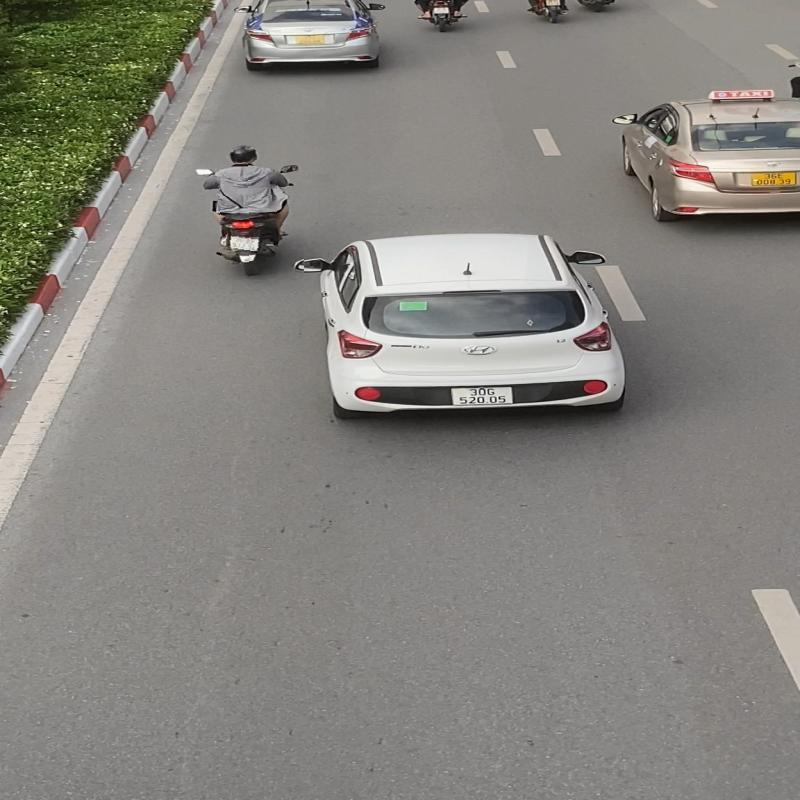helmet: (228, 144, 264, 164)
licenseplate: (226, 235, 263, 253)
motorcyclist: (193, 142, 303, 278)
